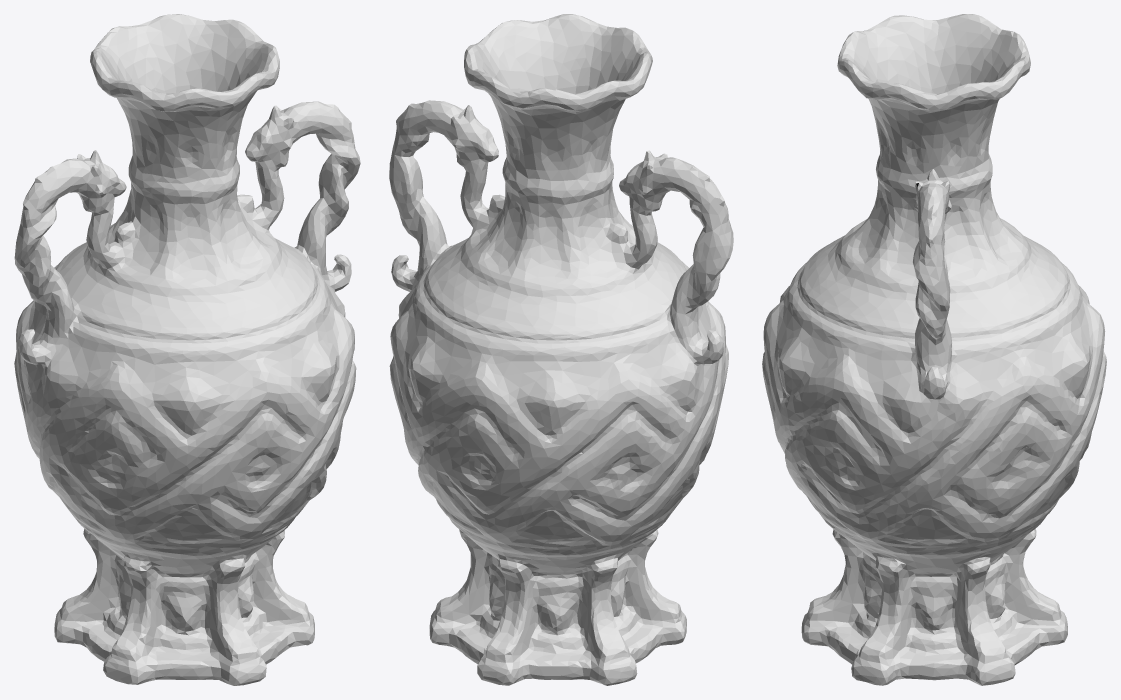
The model's file is orn_vase02.glb.
The picture shows the model from 3 angles, left to right: view 1: azimuth 30°, elevation 25°; view 2: azimuth 150°, elevation 25°; view 3: azimuth 270°, elevation 25°; orthographic projection.
Parts seen in each view (by area): view 1: Low; view 2: Low; view 3: Low.
Part boxes in pixels (left/top/right/bottom): Low: left=14, top=14, right=360, bottom=685; Low: left=389, top=14, right=733, bottom=685; Low: left=762, top=14, right=1106, bottom=685.
Size of the model in its own units: 1.21 by 1.99 by 1.05.
1 material, 1 textured.
